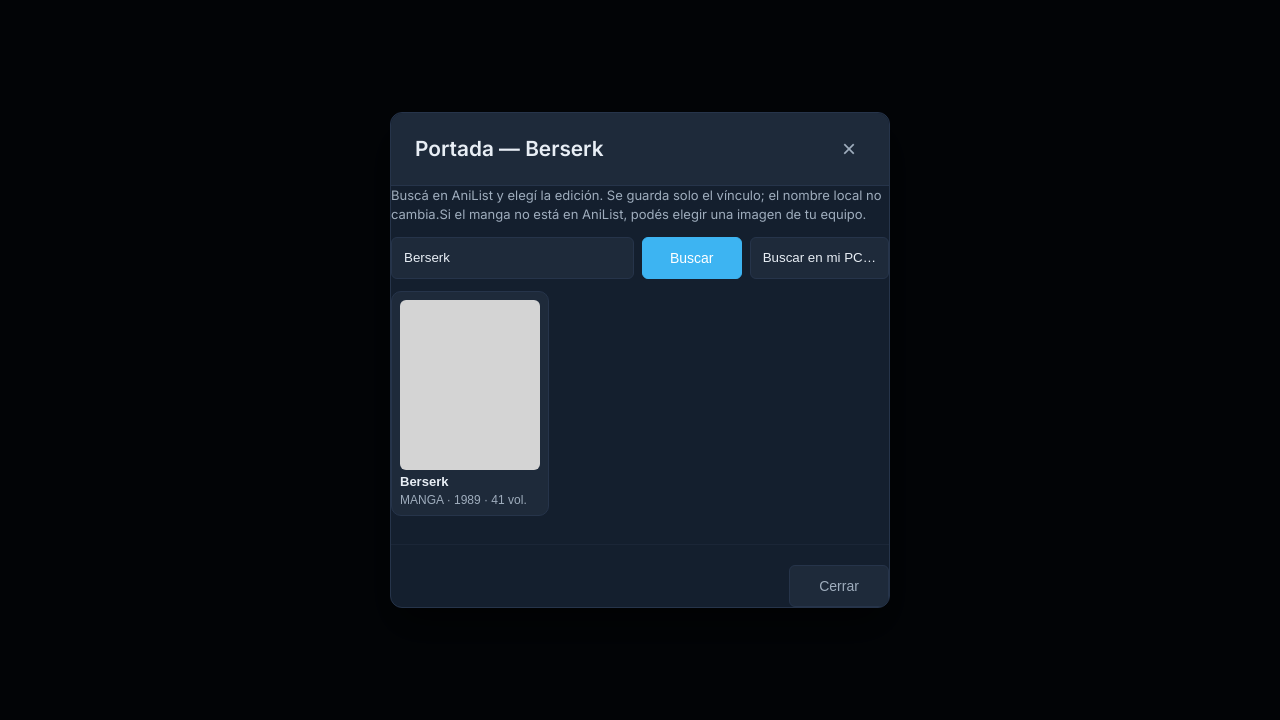
Test case: LinkCoverModal › muestra un error si falla la vinculación
What coordinates should you click on to do the following:
click the button titled "Vincular con Berserk"
I would click on:
 (470, 404)
Its box is [391,291,549,516].
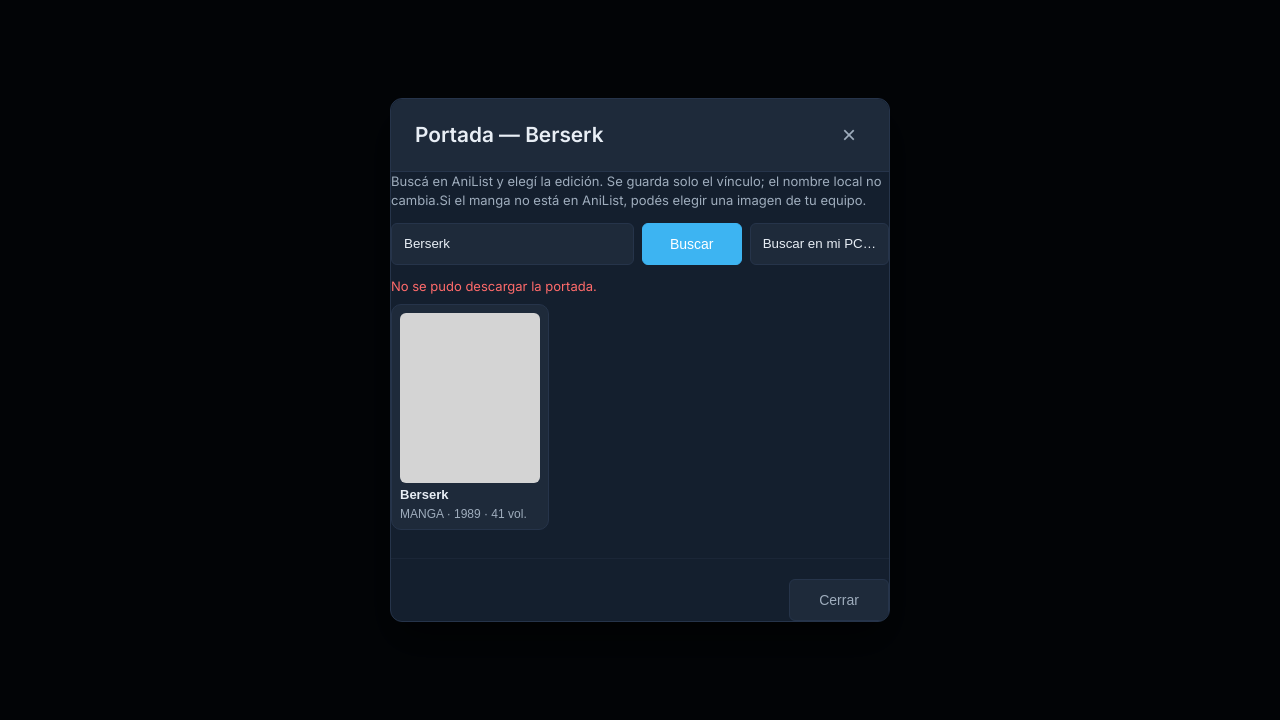
expect the text "No se pudo descargar la portada." is shown: met, box [391,278,597,294]
